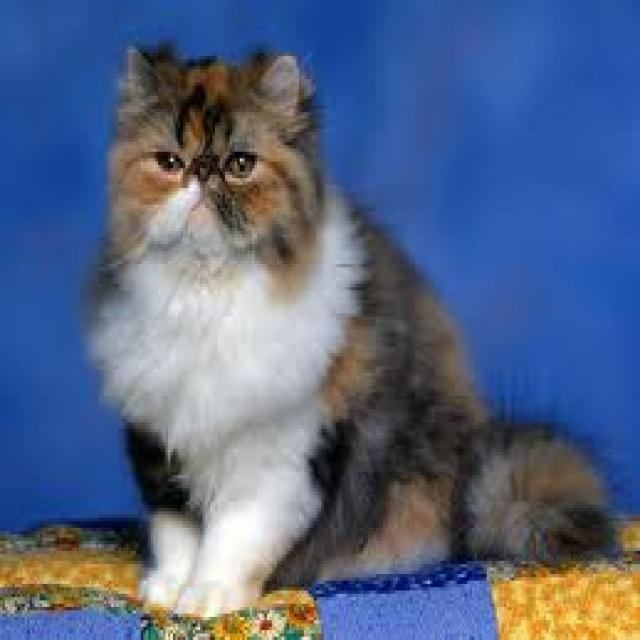Persian: (105, 42, 314, 269)
